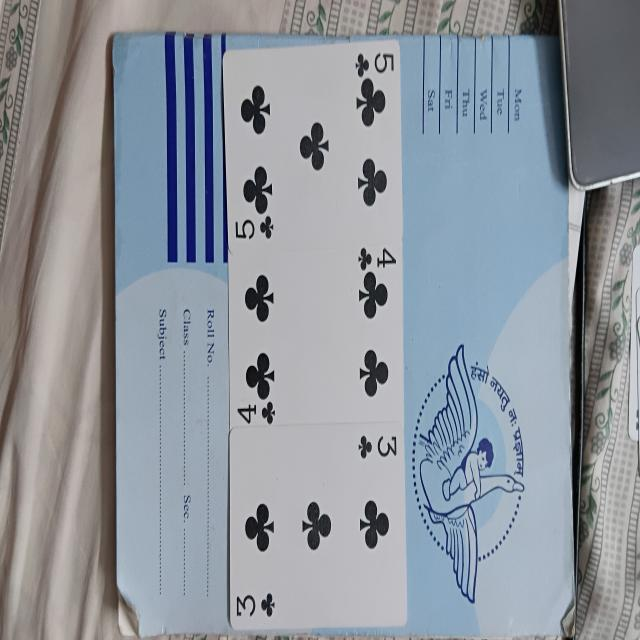3C: (228, 427, 407, 630)
5C: (226, 40, 402, 250)
